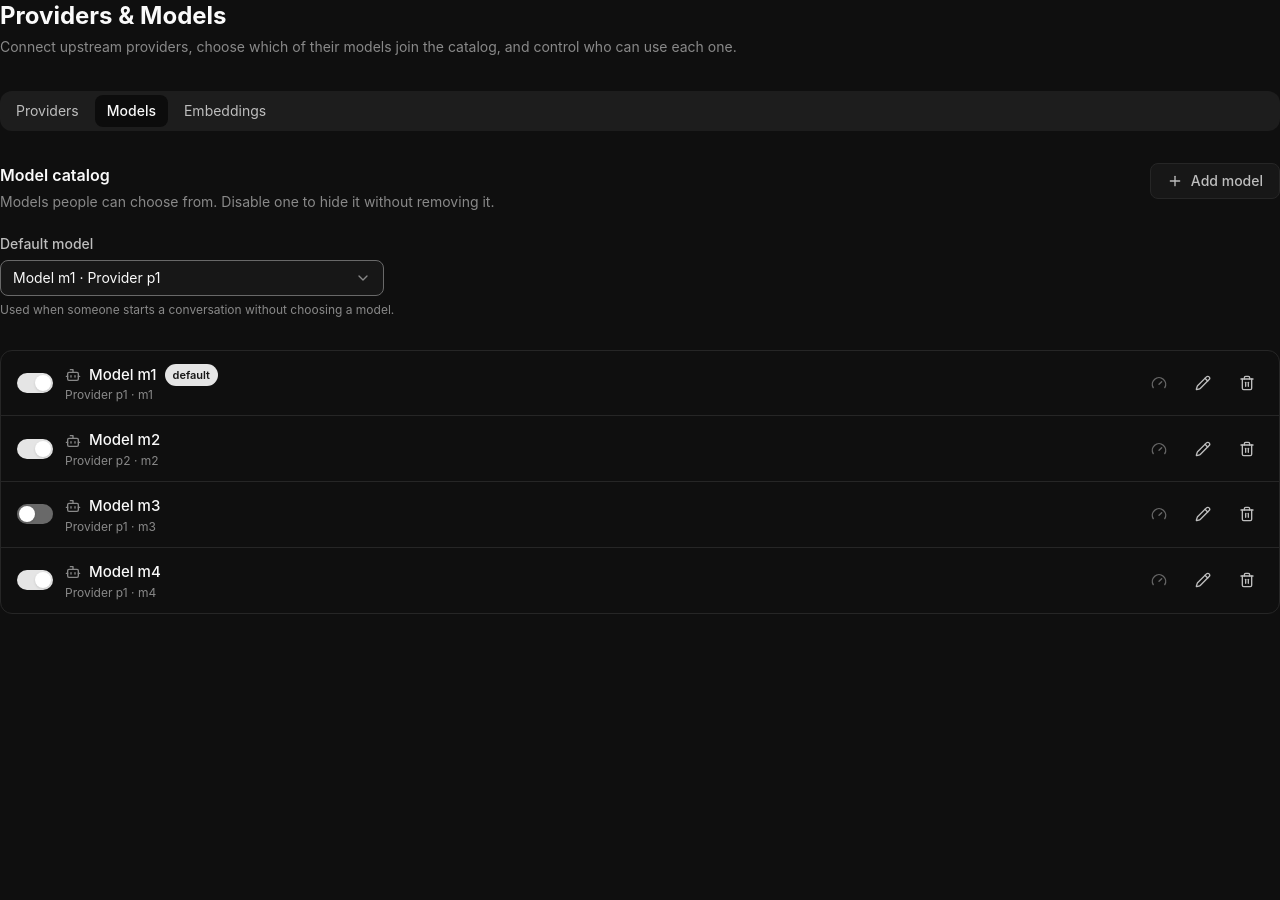
Providers & Models › explains that the default model cannot be removed, and holds the button back
What coordinates should you click on to do the following:
click the button named "Remove Model m1"
I would click on:
 (1247, 383)
Its box is [1231,367,1263,399].
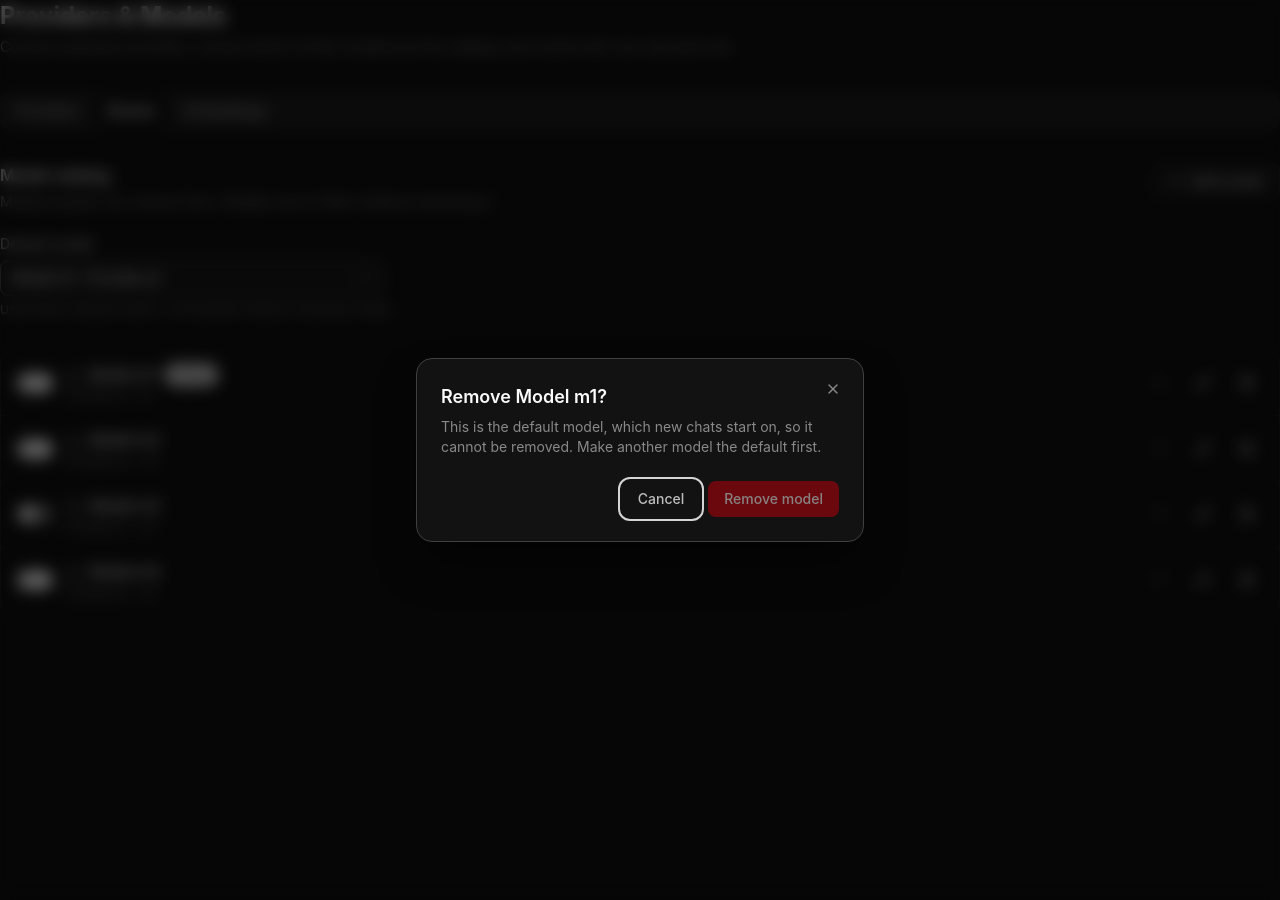
Now the dialog shows "Make another model the default first", box [441,418,821,455]
Now the button "Remove model" is disabled, box [708,481,839,517]
